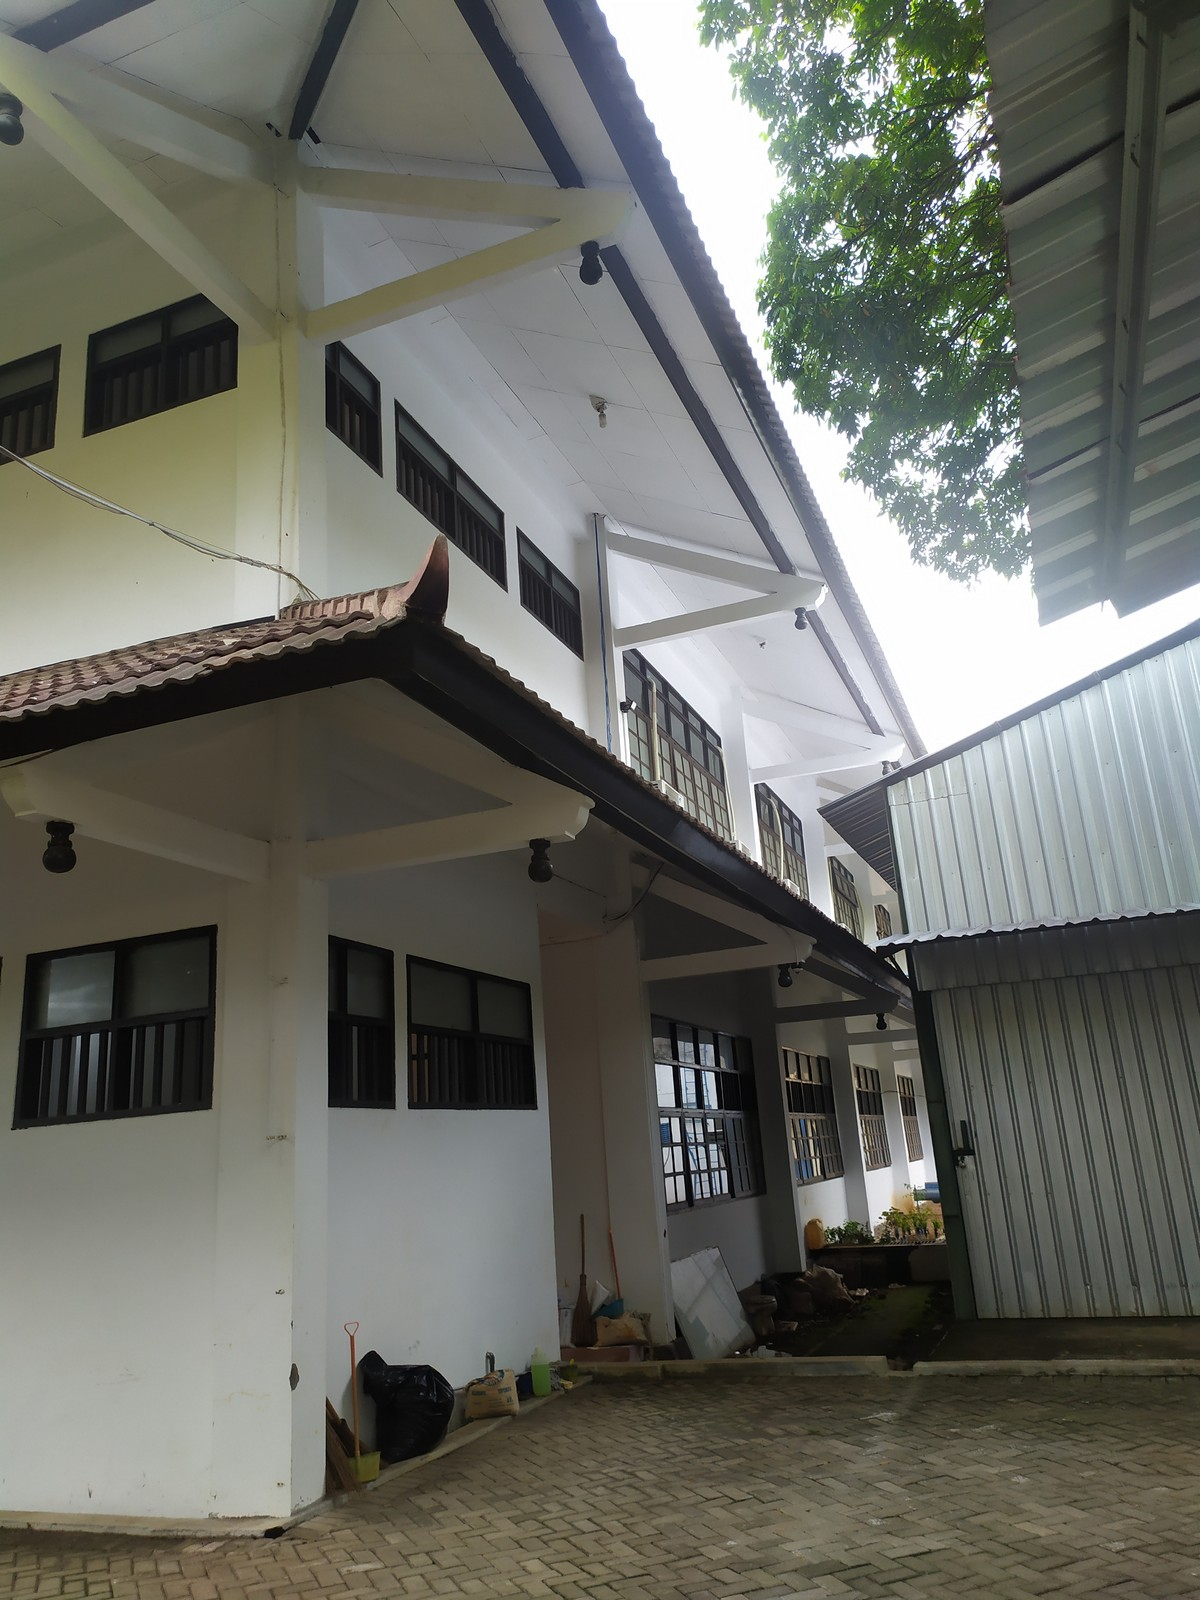concrete beam: (299, 248, 537, 348), (286, 800, 511, 896), (91, 786, 289, 893)
concrete column: (195, 753, 342, 1534), (222, 129, 337, 612)
